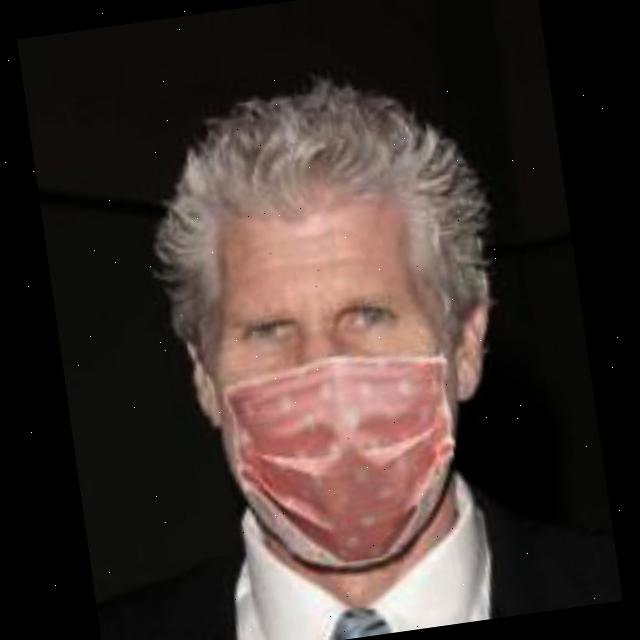suspicion: (105, 36, 531, 574)
